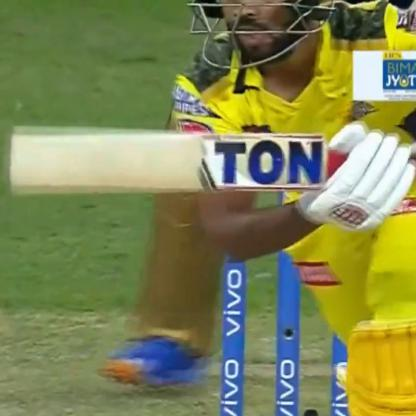bat: (6, 111, 402, 223)
